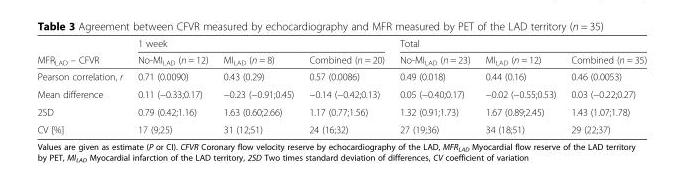table: (36, 37, 646, 134)
table column: (36, 37, 129, 134), (300, 37, 391, 134), (129, 37, 215, 134), (391, 37, 477, 134), (215, 37, 300, 134), (477, 37, 562, 134), (562, 37, 646, 134)
table column header: (36, 37, 646, 68)
table row: (36, 84, 646, 102), (36, 102, 646, 120), (36, 51, 646, 68), (36, 68, 646, 84), (36, 37, 646, 51), (36, 120, 646, 134)
table spanning cell: (129, 37, 391, 51), (391, 37, 646, 51), (36, 37, 129, 68)
